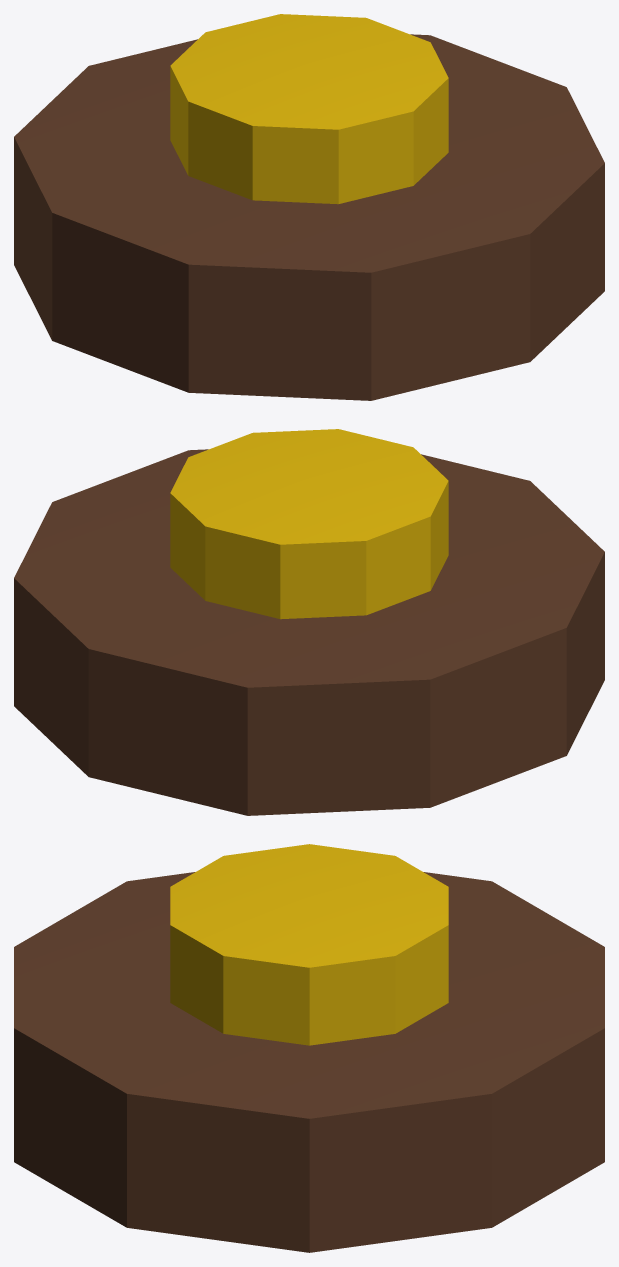
The model's file is propellor_bottom.fbx.
3 views of the same model, one above another, from view 1: azimuth 30°, elevation 25°; view 2: azimuth 150°, elevation 25°; view 3: azimuth 270°, elevation 25° (orthographic). The views are drawn at different scales.
Visible parts, largest first — view 1: pCylinder25; view 2: pCylinder25; view 3: pCylinder25.
Boxes of the visible parts, bbox=[...] form: pCylinder25: bbox=[14, 14, 604, 400]; pCylinder25: bbox=[14, 429, 604, 815]; pCylinder25: bbox=[14, 844, 604, 1252].
Bounding box in the file's own units: 0.9595 × 0.3767 × 0.9125.
